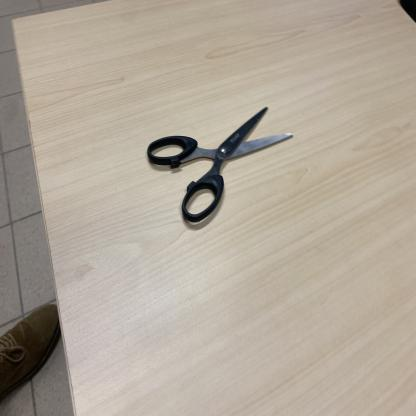scissors: (145, 103, 293, 233)
